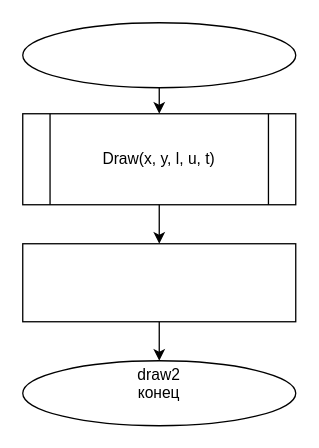
Image size: 319x448. Some labels were removed from this diagram. The shapes that lost their labels are listed below. From the top down, each one's centre as x and y in pixels, then its label:
the point at 158,54: draw2 начало
the point at 158,282: x := x + l * cos(u); y := y - l * sin(u);
